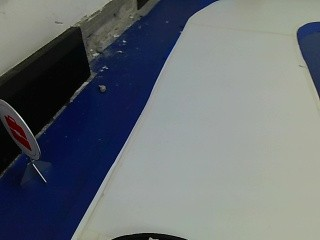company: (1, 97, 40, 161)
